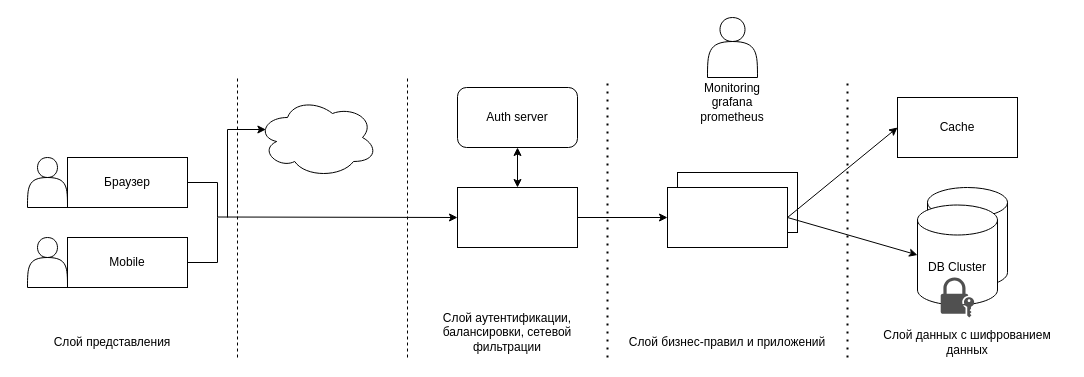
Image size: 1084x377. Some labels were removed from this diagram. Here are the shapes that lost their labels. From the top down, the box of each, then its label:
(256, 96, 378, 178): CDN
(456, 186, 578, 248): API Gateway
(666, 186, 788, 248): Service
